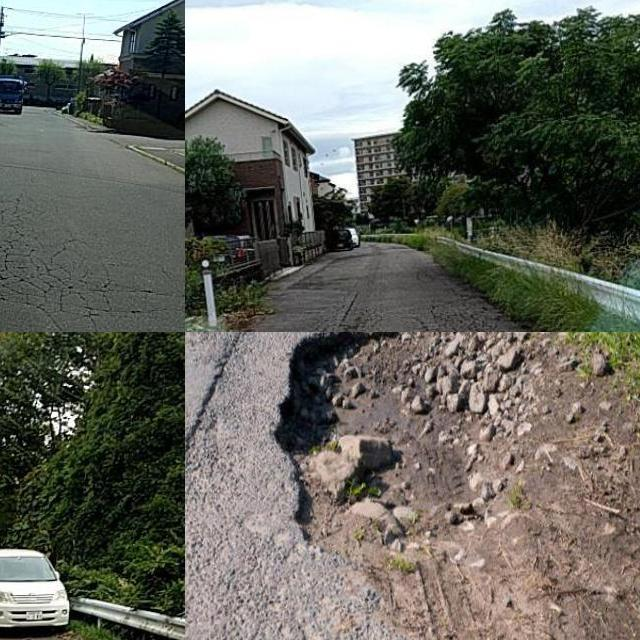Pinggir: (254, 332, 489, 640)
Retak Buaya: (0, 220, 96, 312)
